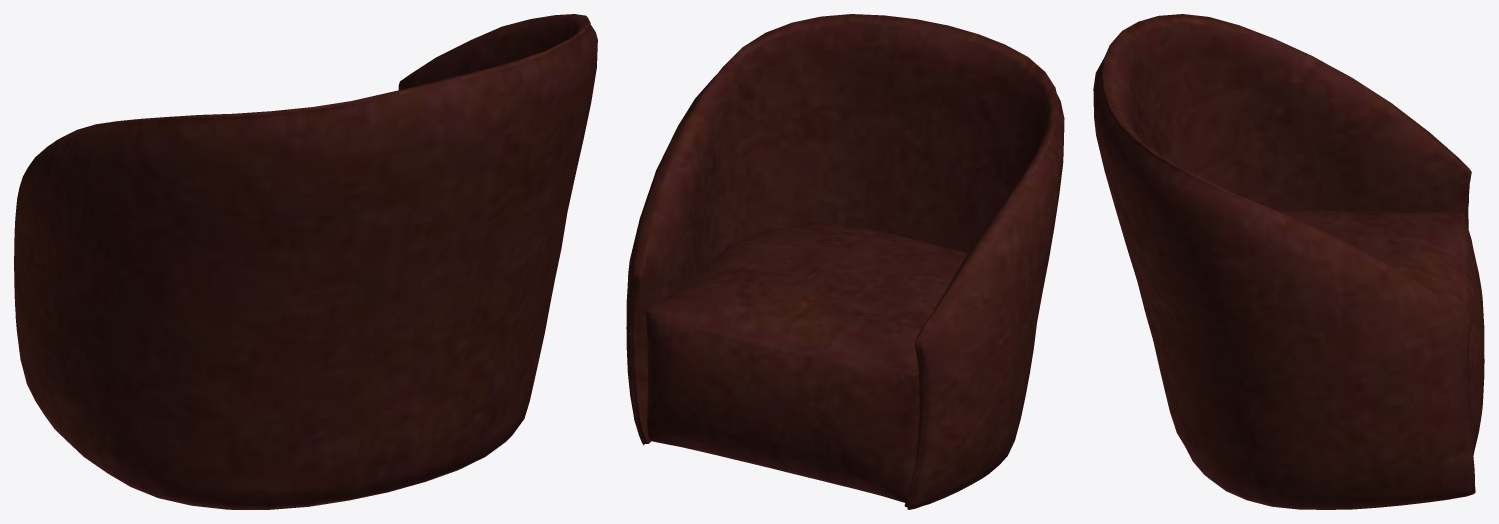
The model's file is Sofa28.glb.
3 renders of one model, left to right at view 1: azimuth 30°, elevation 25°; view 2: azimuth 150°, elevation 25°; view 3: azimuth 270°, elevation 25°, orthographic. The views are drawn at different scales.
Visible parts, largest first — view 1: Sofa28_model; view 2: Sofa28_model; view 3: Sofa28_model.
Part boxes in pixels (<box>): Sofa28_model: <box>14,14,597,509</box>; Sofa28_model: <box>626,14,1064,509</box>; Sofa28_model: <box>1093,14,1484,509</box>.
Bounding box in the file's own units: 1.81 × 1.62 × 1.56.
1 material, 1 textured.
